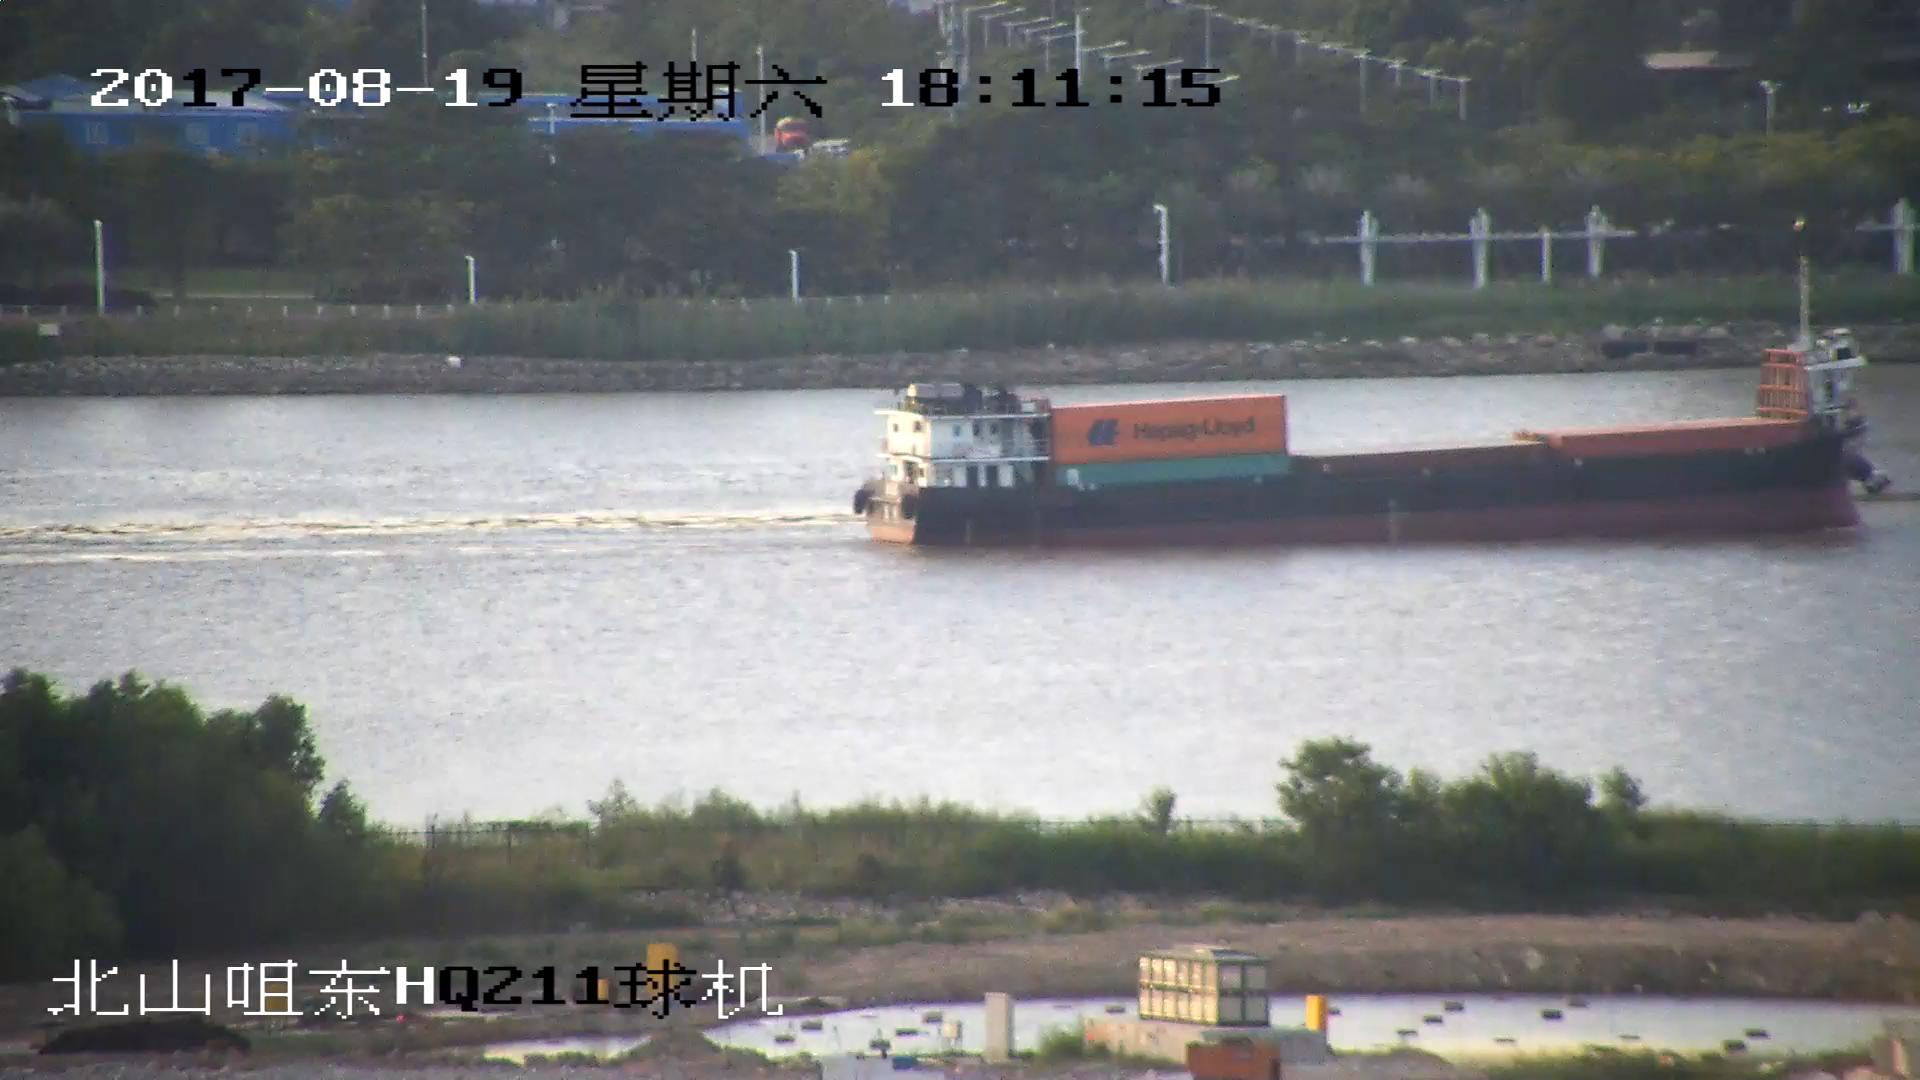container ship: (853, 265, 1884, 556)
